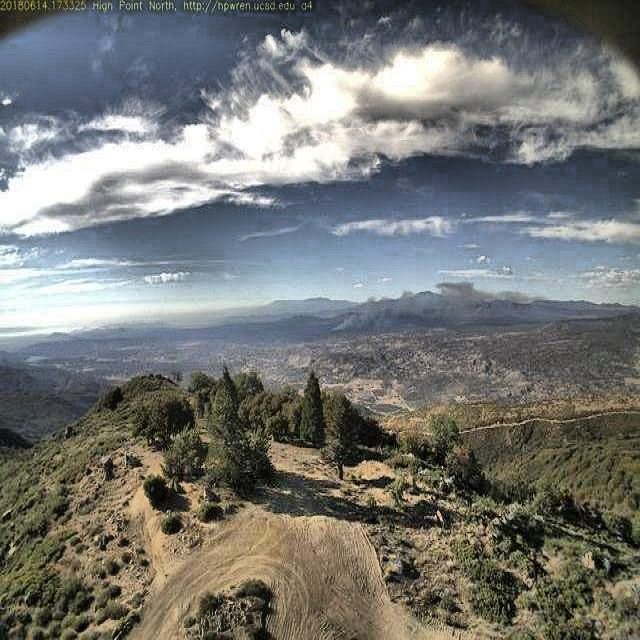smoke: (330, 272, 527, 333)
